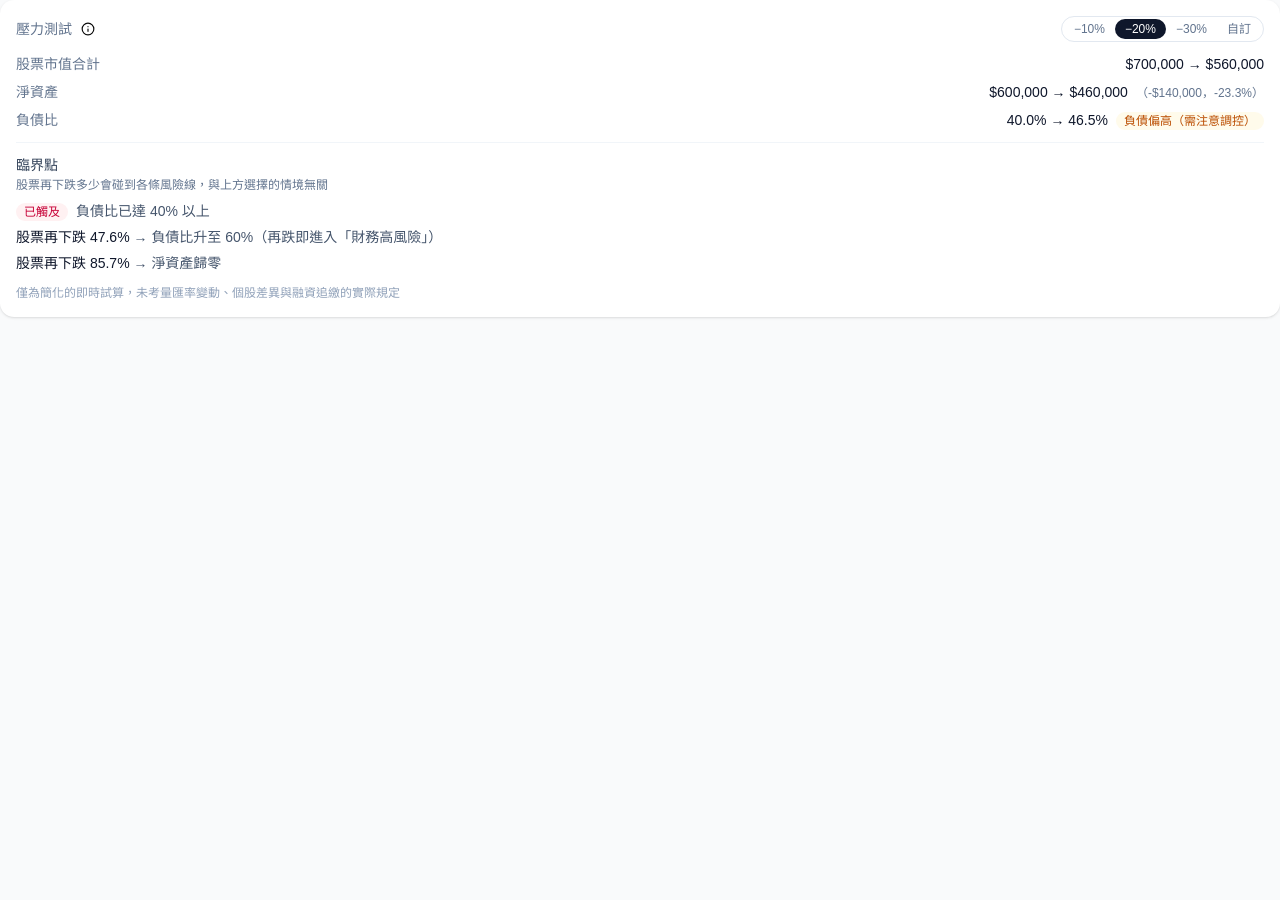
Scenario: StressTestCard › 點擊公式說明 icon 會顯示情境公式與代入數值，並註明是簡化試算
Click the button named "壓力測試計算公式說明" at (88, 29), box [76,17,100,41]
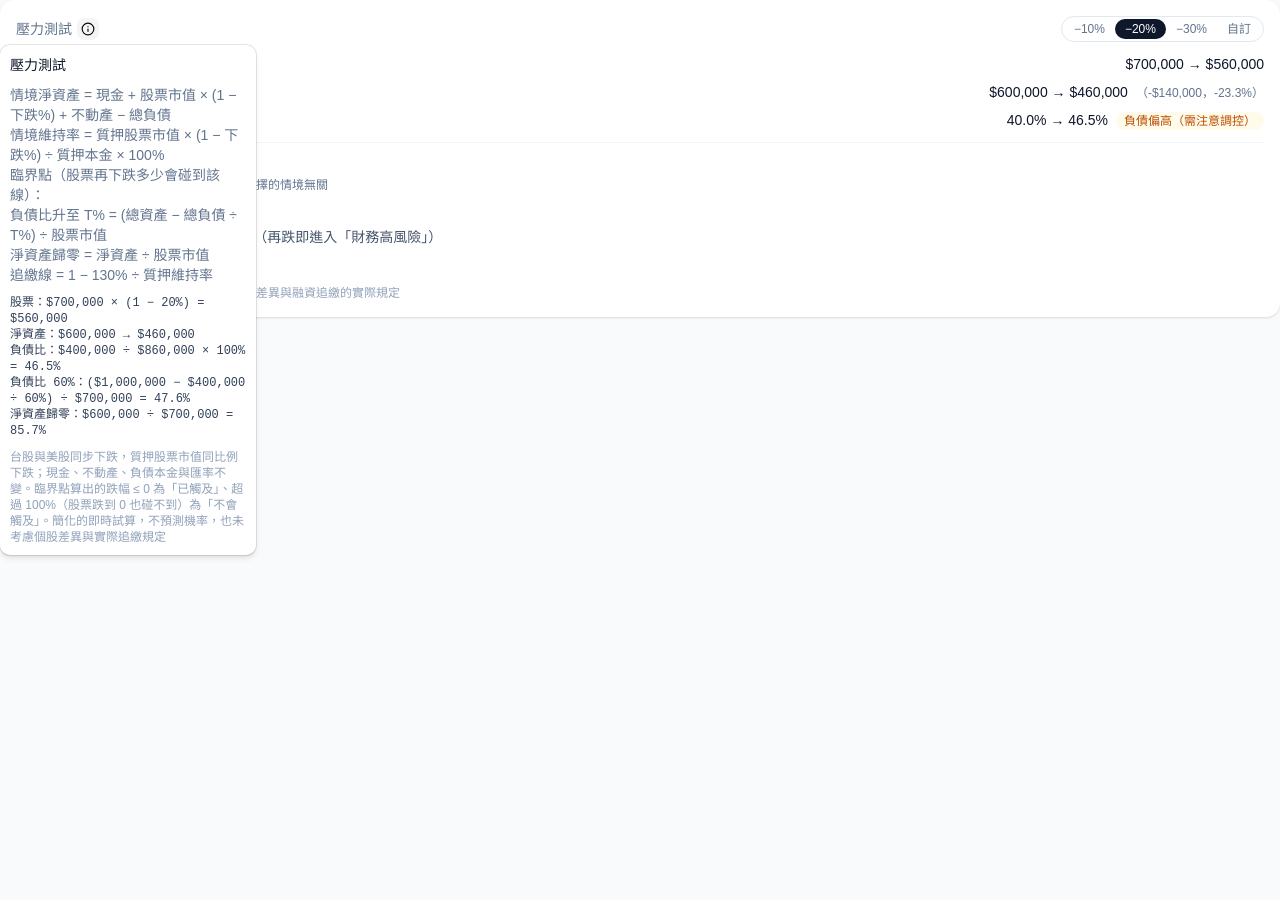
Check: the dialog with test id "formula-info-content" shows "情境淨資產", box [10,87,238,283]
Check: the dialog with test id "formula-info-content" shows "$700,000 × (1 − 20%) = $560,000", box [10,296,245,438]
Check: the dialog with test id "formula-info-content" shows "簡化的即時試算", box [10,450,244,544]
